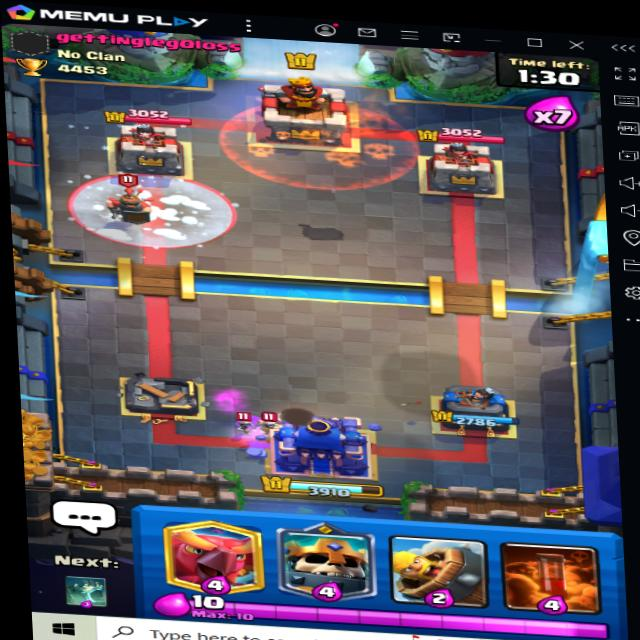freeze: (67, 168, 235, 252)
poison: (212, 92, 421, 196)
royal-delivery: (297, 206, 355, 248)
royal-recruits: (98, 176, 153, 230)
skeleton: (251, 415, 280, 433), (229, 416, 251, 436)
